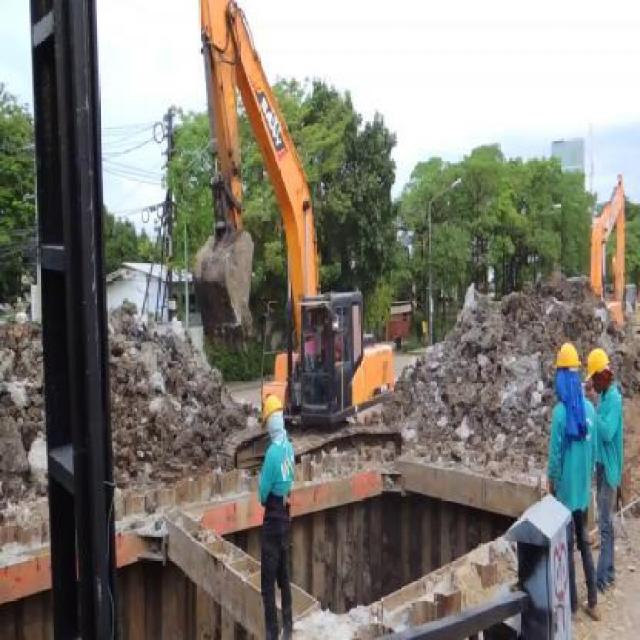Excavator: (183, 0, 394, 455), (578, 164, 636, 330)
